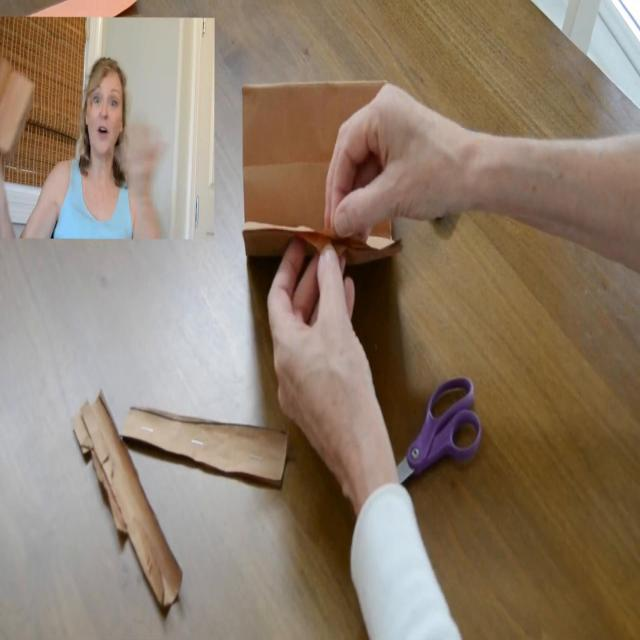scissor: (397, 376, 481, 485)
